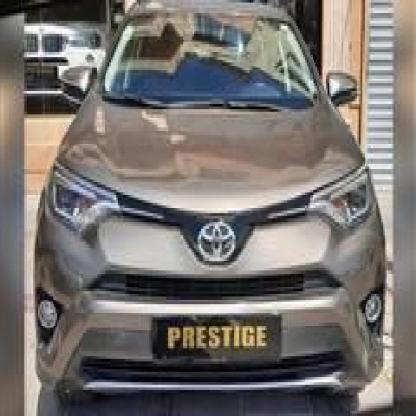Car: (38, 0, 383, 416), (0, 0, 109, 109)
